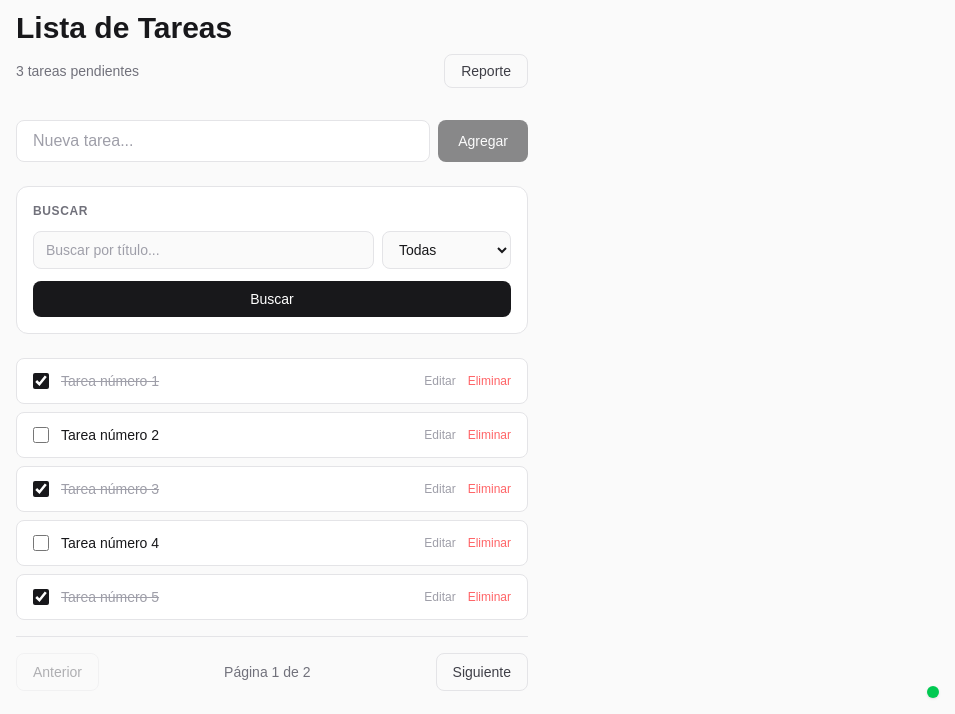
Test: ListaTareas — paginación › la búsqueda resetea a la página 1
Expected: the text "Tarea número 1" is shown, x1=61 y1=373 x2=159 y2=389
Click the button "Siguiente" at (482, 672), box x1=436 y1=653 x2=528 y2=691
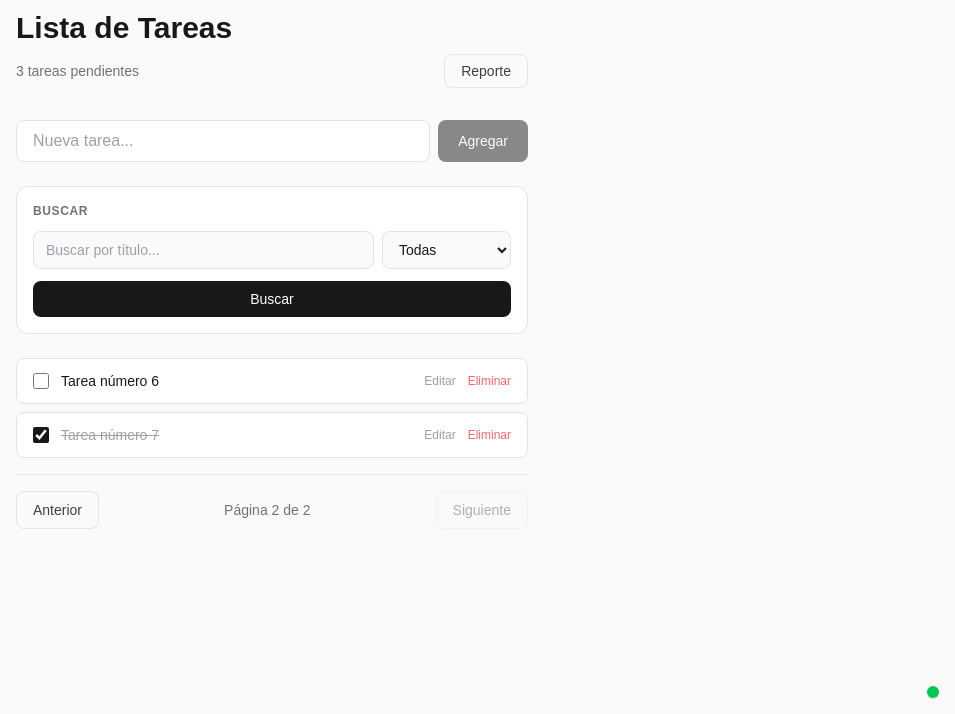
Expected: the text "Página 2 de 2" is shown, x1=224 y1=500 x2=310 y2=520
Type "número 1" into the field labelled "Buscar por título" at (204, 250), box x1=33 y1=231 x2=374 y2=269
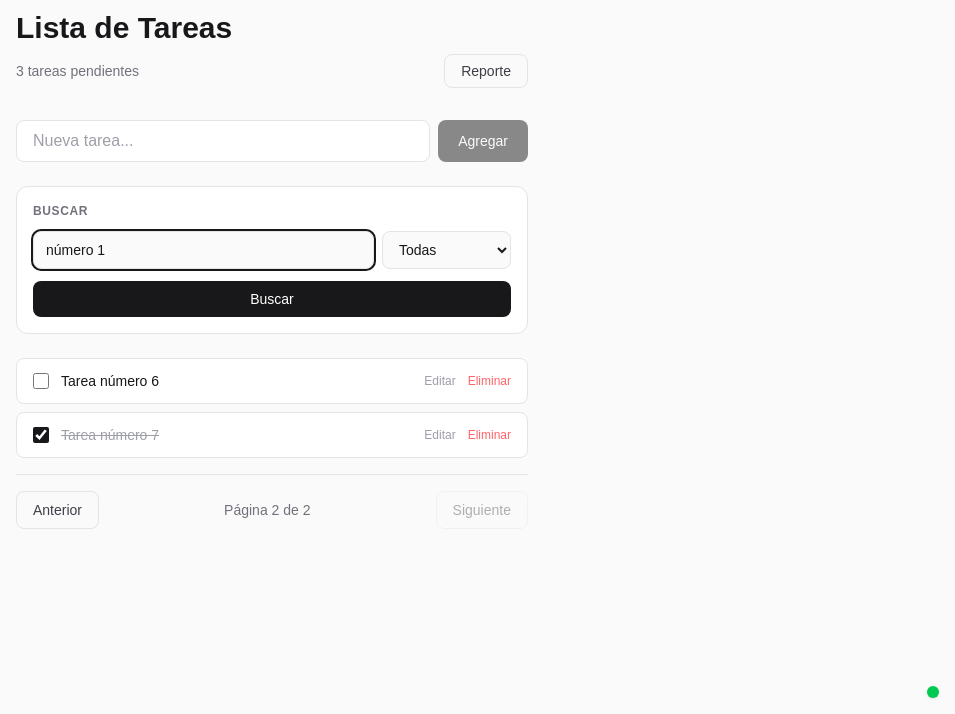
Click the button "Buscar" at (272, 299), box x1=33 y1=281 x2=511 y2=317
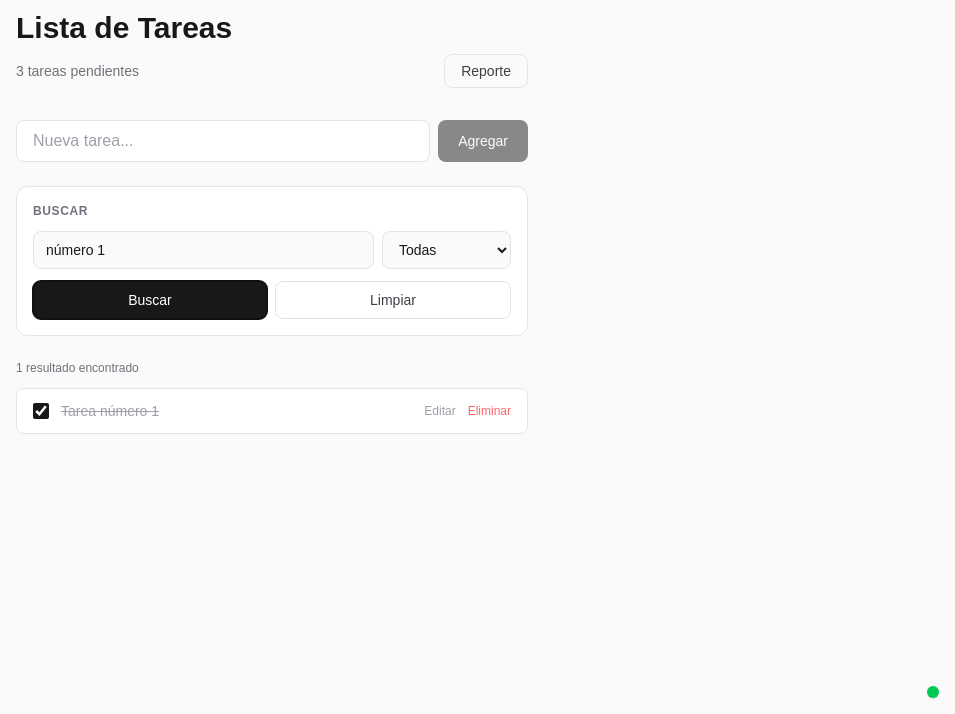
Expected: the text "Tarea número 1" is shown, x1=61 y1=403 x2=159 y2=419
